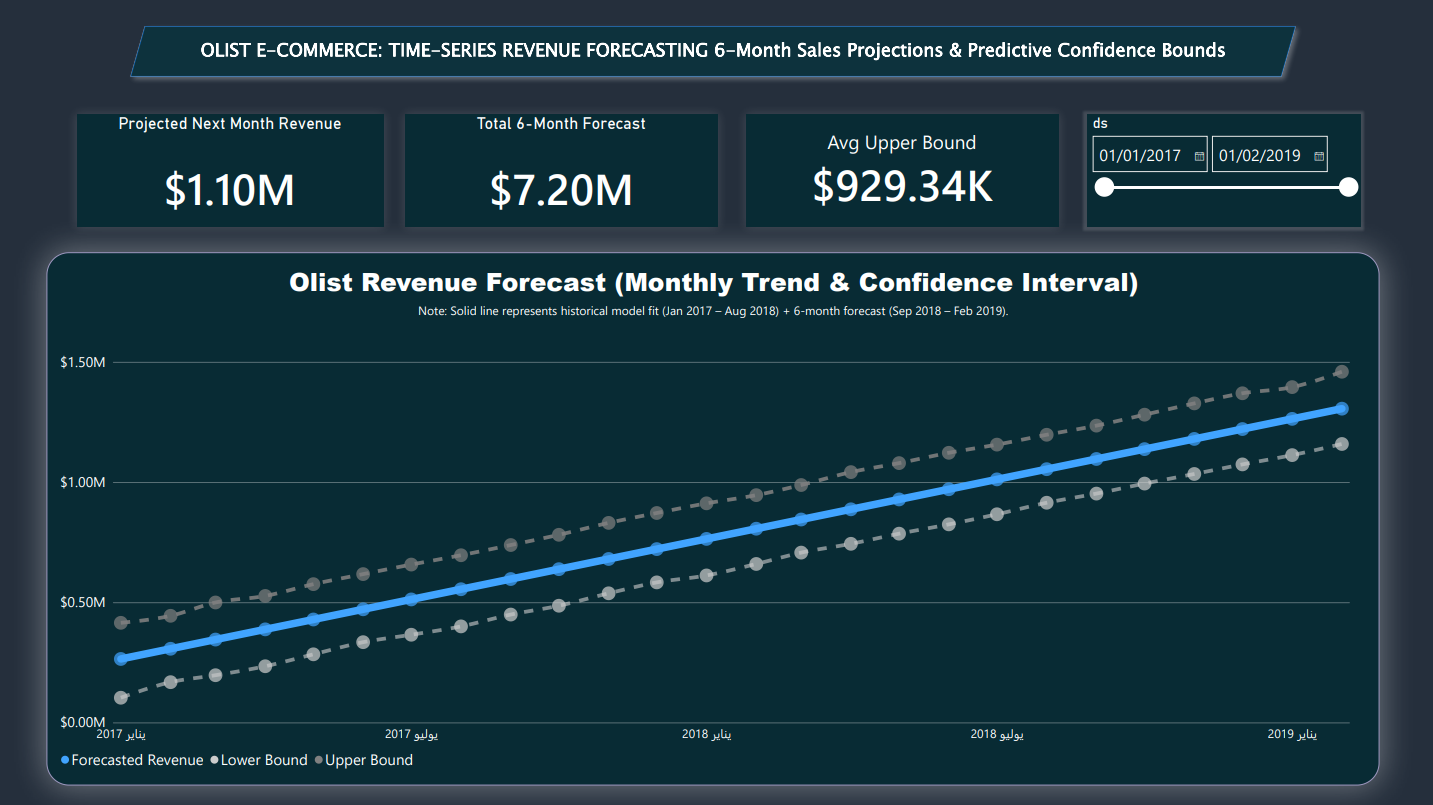

Layout of this report page (visuals, bound fields, positions):
{"tool":"powerbi","page":{"name":"olist_forecasting_dashboard","canvas":[1920,1080],"ordinal":0},"visuals":[{"type":"lineChart","title":"Olist Revenue Forecast (Monthly Trend & Confidence Interval)","fields":{"Category":["sales_forecast.ds"],"Y":["Sum(sales_forecast.yhat)","Sum(sales_forecast.yhat_lower)","Sum(sales_forecast.yhat_upper)"]},"box":[65.9,339.6,1776.3,710.1],"z":0},{"type":"shape","title":"OLIST E-COMMERCE: TIME-SERIES REVENUE FORECASTING  6-Month Sales Projections & Predictive Confidence Bounds","box":[166.7,27.1,1575,89.6],"z":1000},{"type":"cardVisual","title":"Projected Next Month Revenue","fields":{"Data":["sales_forecast.Next Month Forecast"]},"box":[106.2,156.2,408.3,150],"z":2000},{"type":"cardVisual","title":"Total 6-Month Forecast","fields":{"Data":["sales_forecast.Total 6M Forecast"]},"box":[543.8,156.2,416.7,150],"z":3000},{"type":"cardVisual","title":"Projected Next Month Revenue","fields":{"Data":["Avg(sales_forecast.yhat_upper)"]},"box":[997.9,156.2,416.7,150],"z":4000},{"type":"slicer","fields":{"Values":["sales_forecast.ds"]},"box":[1452.1,156.2,364.6,150],"z":5000}]}

Visuals, with their boxes in screenshot pixels (x1, y1, x2, y2), scaled from the page's 1920x1080 canvas onto the 1433x805 screenshot:
"Olist Revenue Forecast (Monthly Trend & Confidence Interval)" lineChart: left=49, top=253, right=1375, bottom=782
"OLIST E-COMMERCE: TIME-SERIES REVENUE FORECASTING  6-Month Sales Projections & Predictive Confidence Bounds" shape: left=124, top=20, right=1300, bottom=87
"Projected Next Month Revenue" cardVisual: left=79, top=116, right=384, bottom=228
"Total 6-Month Forecast" cardVisual: left=406, top=116, right=717, bottom=228
"Projected Next Month Revenue" cardVisual: left=745, top=116, right=1056, bottom=228
slicer - sales_forecast.ds: left=1084, top=116, right=1356, bottom=228
